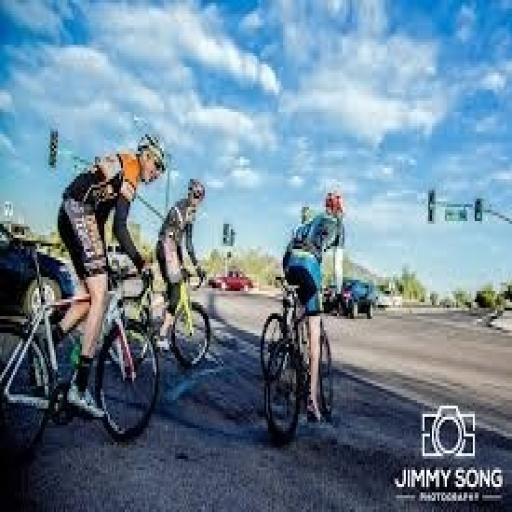cycling: (46, 128, 170, 422), (279, 185, 350, 428), (153, 173, 210, 361)
